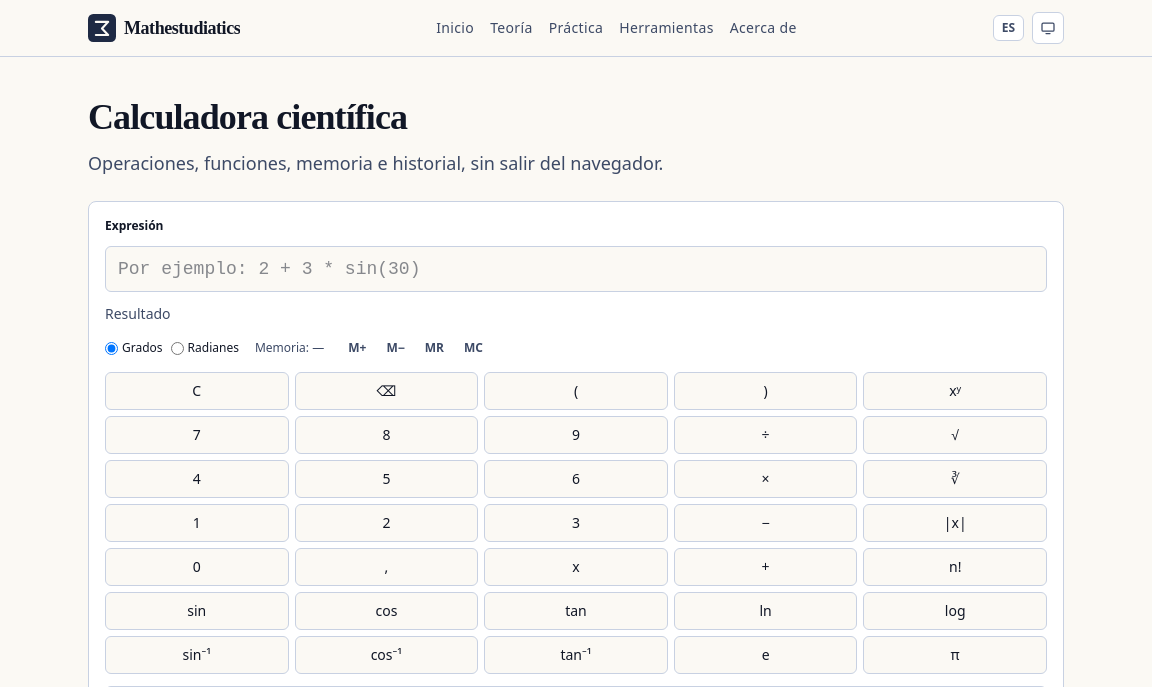
it: calculator page › supports the keypad and memory
expect the heading "Calculadora científica" is shown: met, box [88,97,407,137]
Step 1. Click the button "7" → (197, 435), box [105,416,289,454]
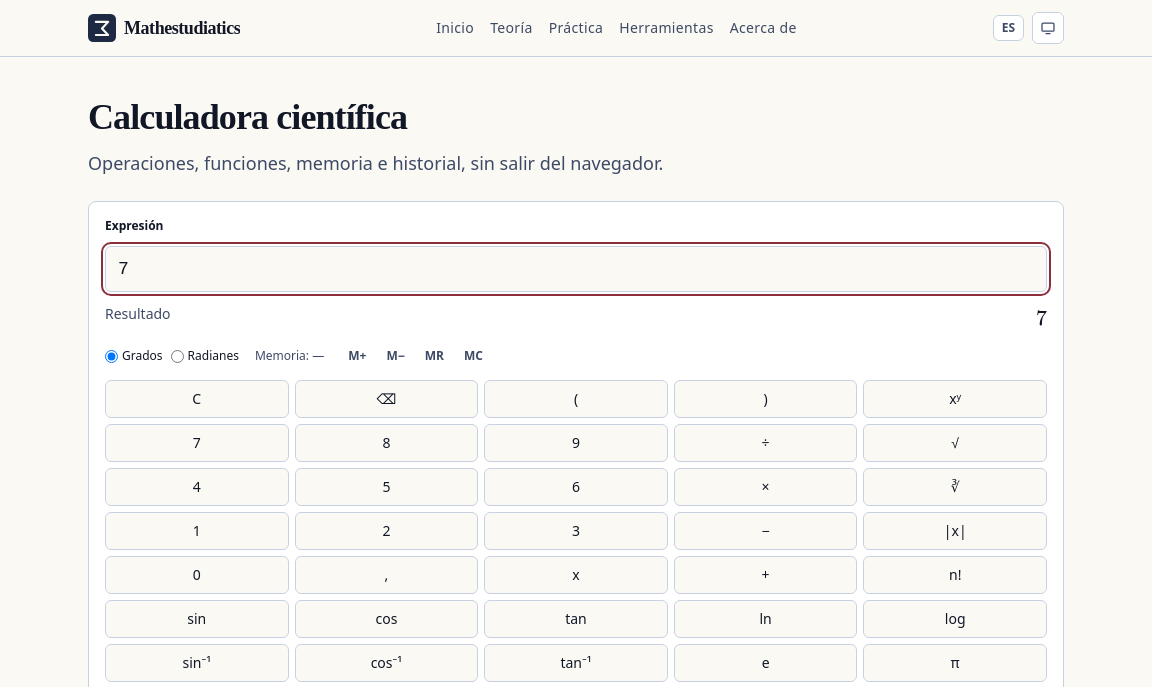
Step 2. Click the button named "Sumar" → (766, 575), box [674,556,857,594]
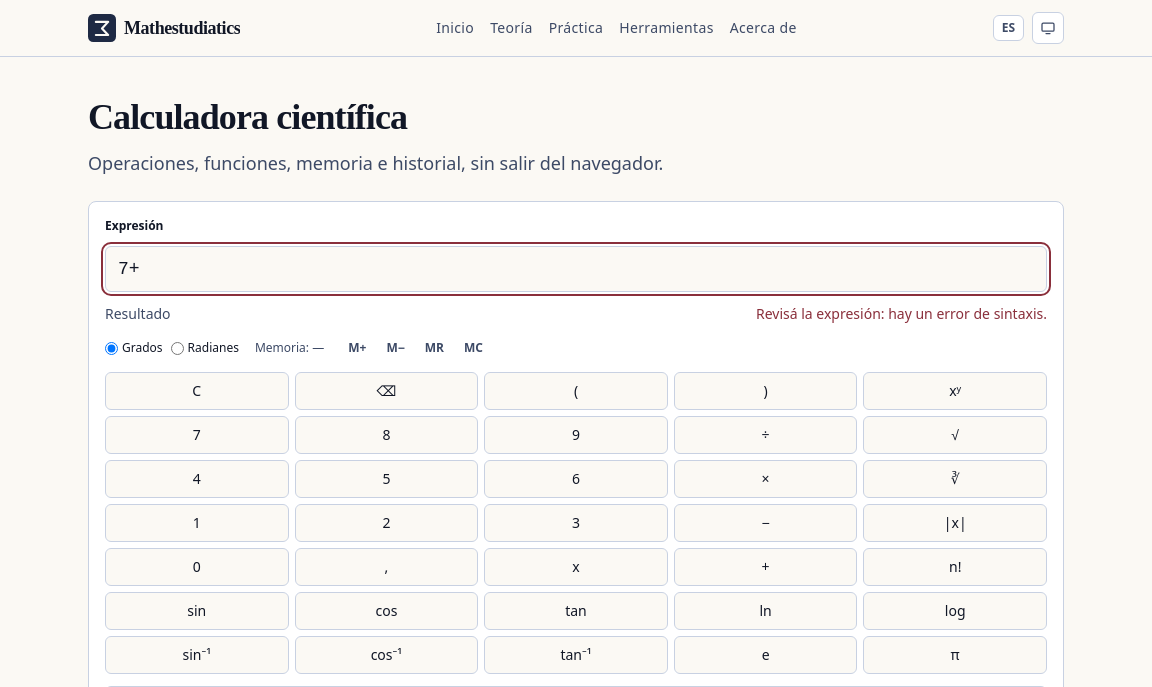
Step 3. Click the button "8" → (386, 435), box [295,416,478,454]
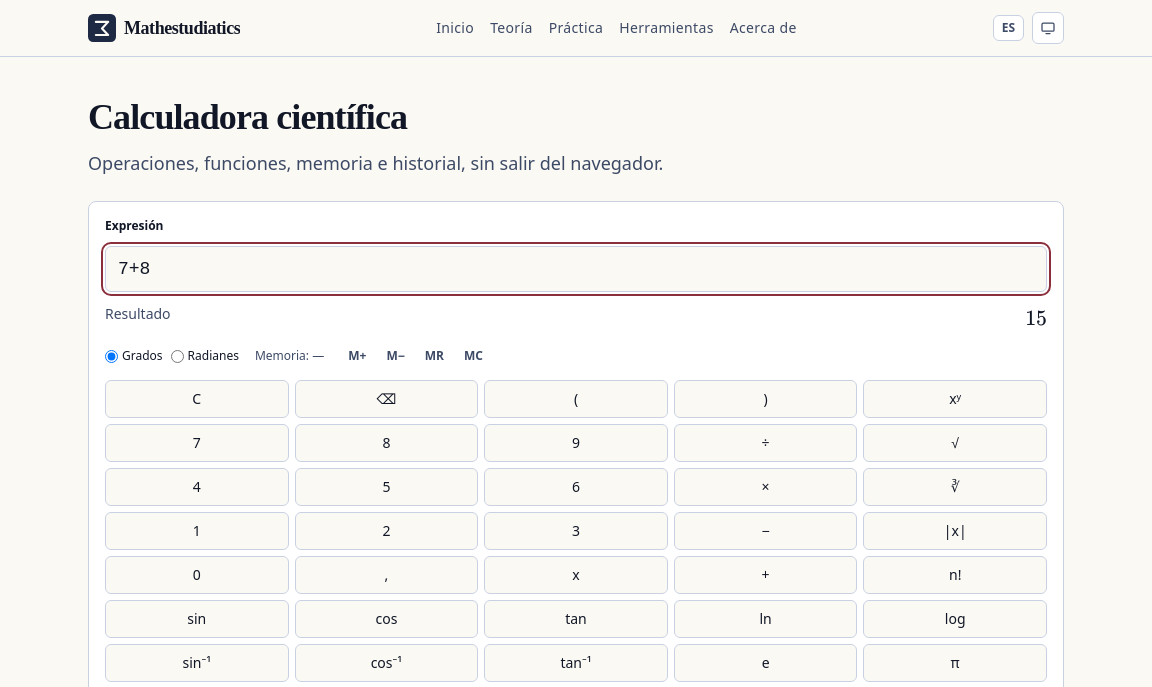
expect the field labelled "Expresión" holds "7+8": met, box [105,246,1047,292]
Step 4. Click the button "M+" → (357, 356), box [340,344,374,368]
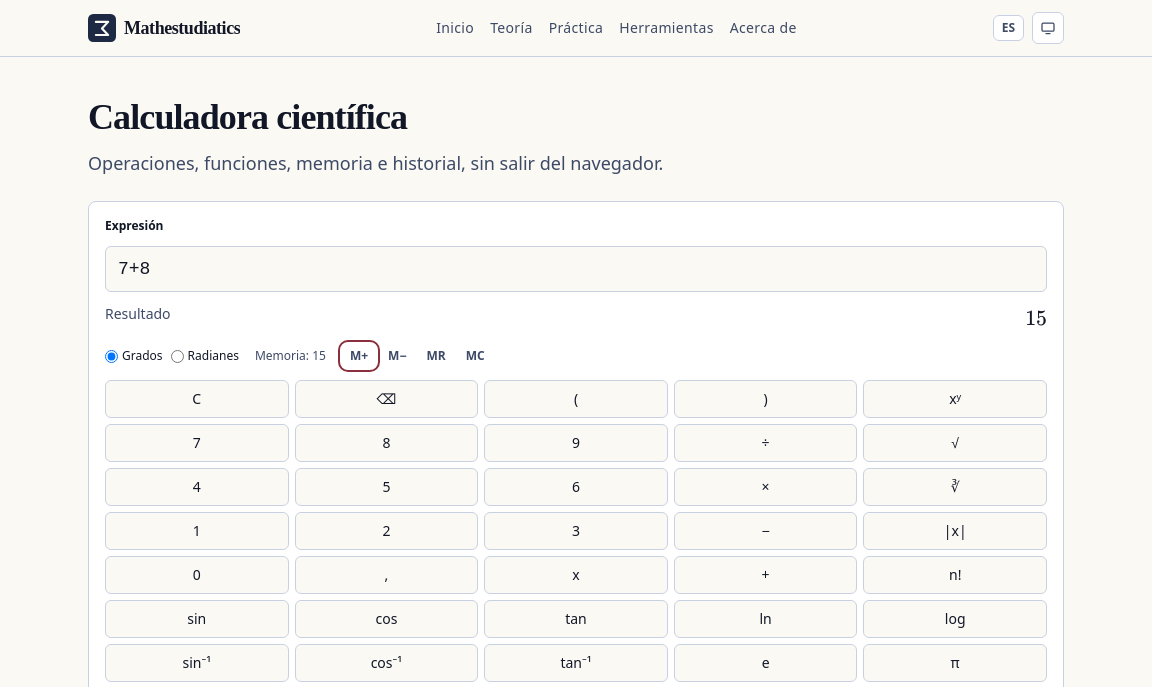
expect the text "Memoria: 15" is shown: met, box [255,348,326,364]
